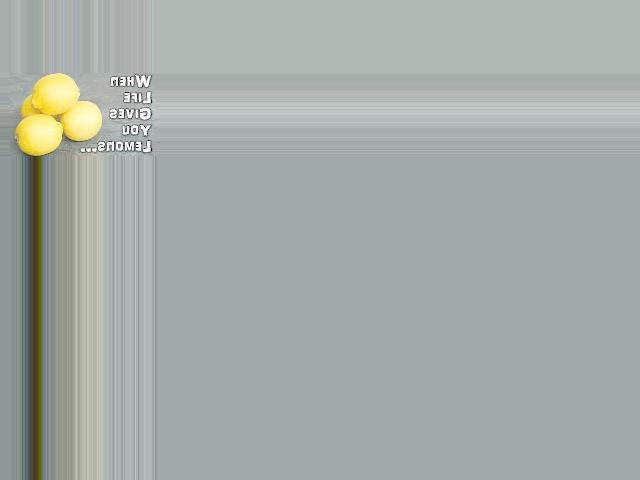lemon: (15, 114, 65, 152)
